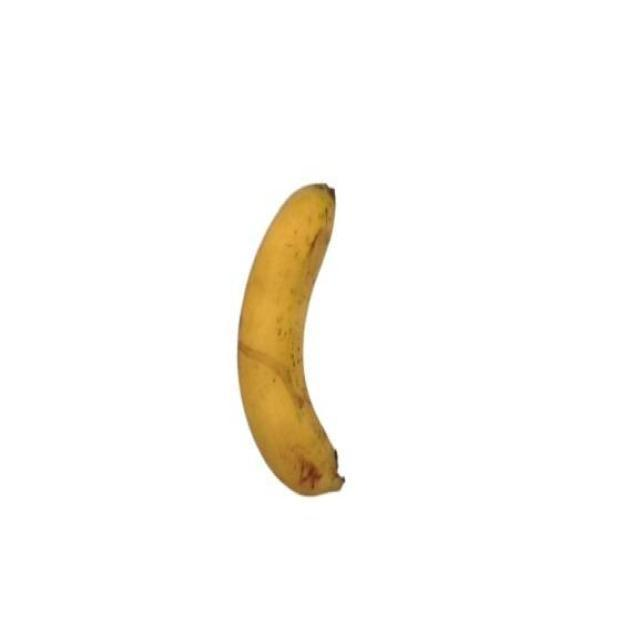Banana: (236, 186, 346, 500)
